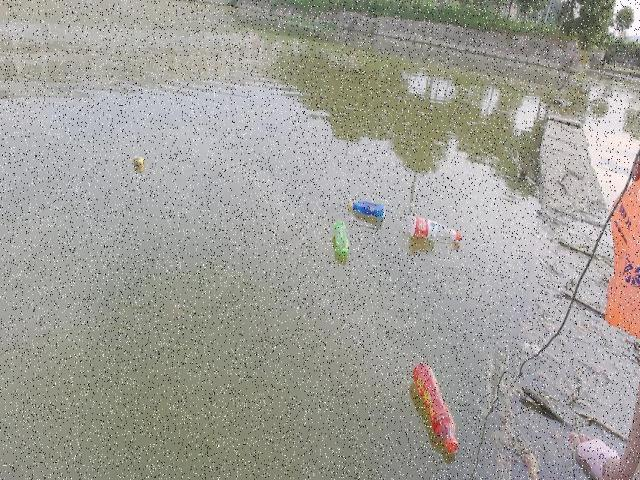Bottle: (404, 356, 469, 458), (403, 214, 468, 246), (326, 218, 360, 264), (348, 198, 392, 222)
